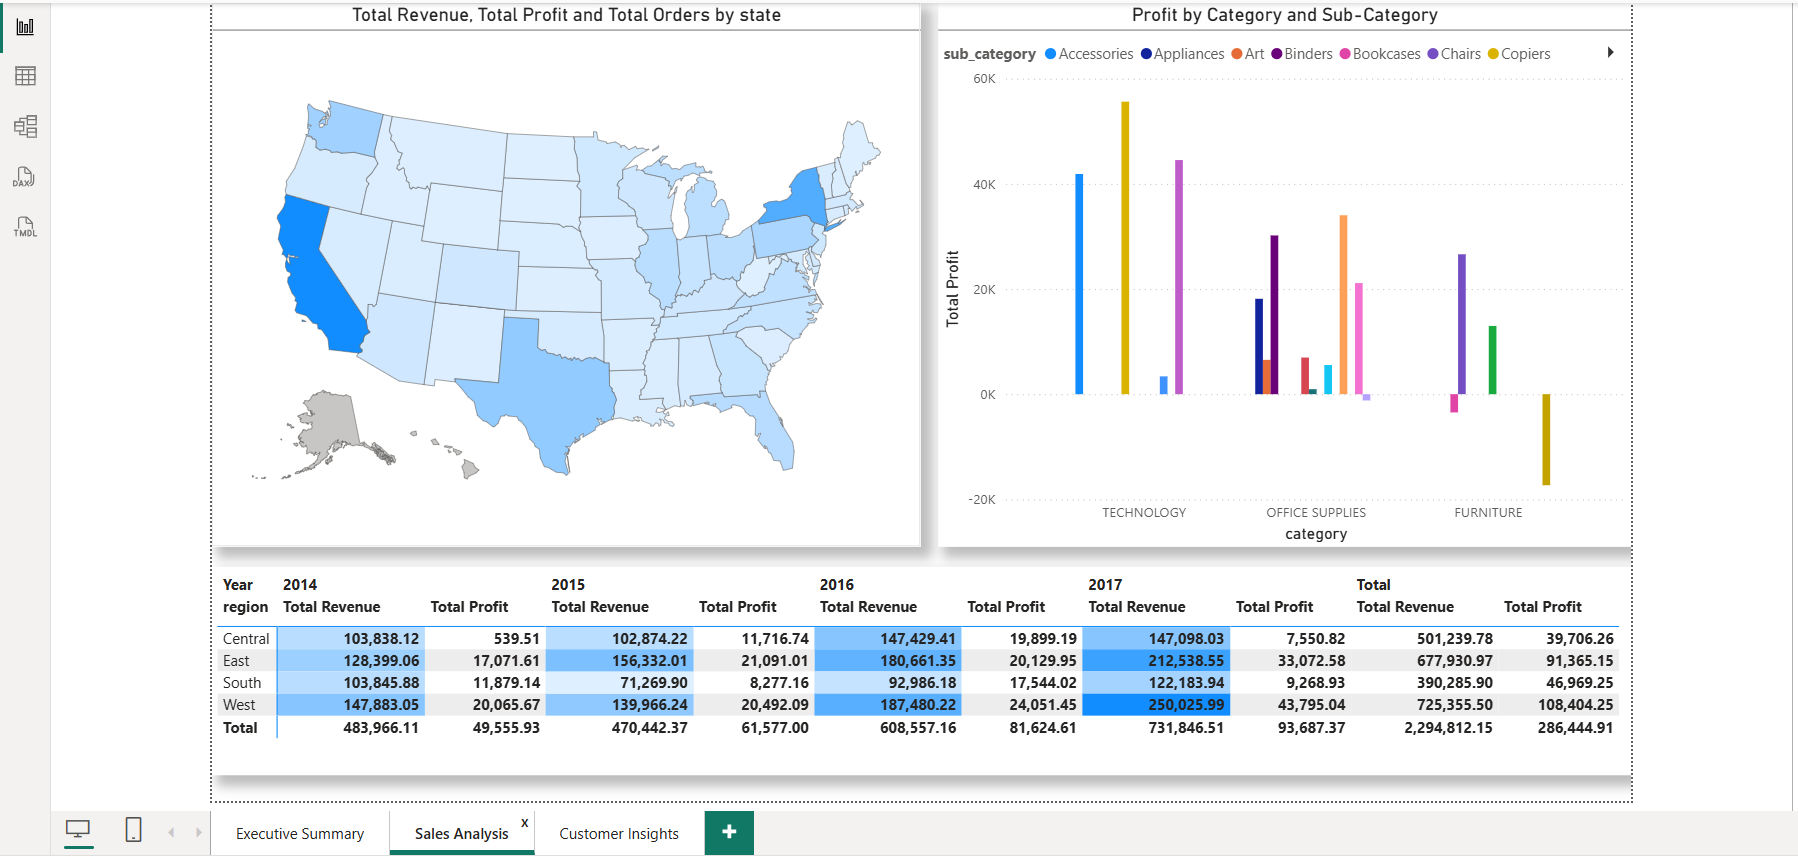

Layout of this report page (visuals, bound fields, positions):
{"tool":"powerbi","page":{"name":"Sales Analysis","canvas":[1280,720],"ordinal":1},"visuals":[{"type":"shapeMap","fields":{"Category":["clean_orders.state"],"Value":["clean_orders.Total Revenue"]},"box":[0,0,639.5,490.7],"z":0},{"type":"clusteredColumnChart","title":"Profit by Category and Sub-Category","fields":{"Category":["clean_orders.category"],"Y":["clean_orders.Total Profit"],"Series":["clean_orders.sub_category"]},"box":[654.7,0,625.6,490.7],"z":1000},{"type":"pivotTable","fields":{"Rows":["clean_orders.region"],"Columns":["clean_orders.order_date.Variation.Date Hierarchy.Year"],"Values":["clean_orders.Total Revenue","clean_orders.Total Profit"]},"box":[0,508.1,1280.2,188.4],"z":2000}]}

Visuals, with their boxes on the page's 1280x720 design canvas (x1, y1, x2, y2). These are canvas units, not pixel positions in the 1798x856 screenshot, which may show the page scaled, cropped or inside an application window:
shapeMap - clean_orders.state x clean_orders.Total Revenue: select_region(0, 0, 640, 491)
"Profit by Category and Sub-Category" clusteredColumnChart: select_region(655, 0, 1280, 491)
pivotTable - clean_orders.region x clean_orders.order_date.Variation.Date Hierarchy.Year: select_region(0, 508, 1280, 696)
